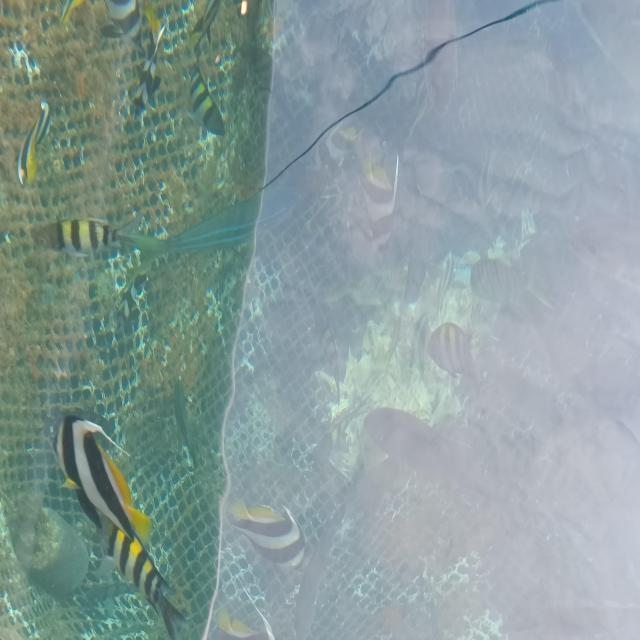ikan: (52, 413, 154, 550), (101, 518, 188, 639), (229, 498, 306, 570), (30, 215, 138, 259), (425, 320, 478, 381), (16, 100, 52, 188), (187, 63, 226, 137)
